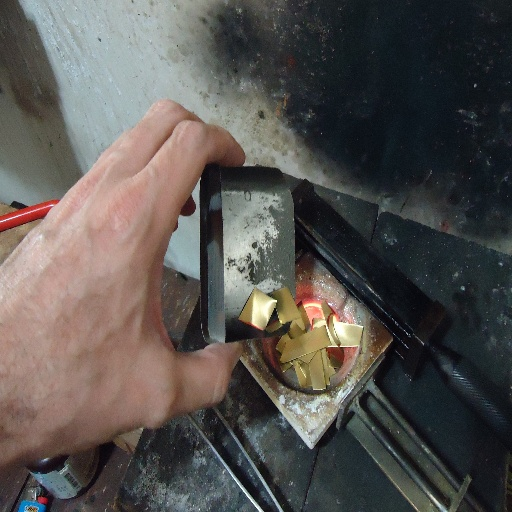hand: (0, 60, 256, 468)
